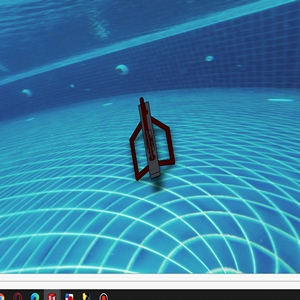submarine: (124, 94, 186, 184), (140, 114, 181, 187)
